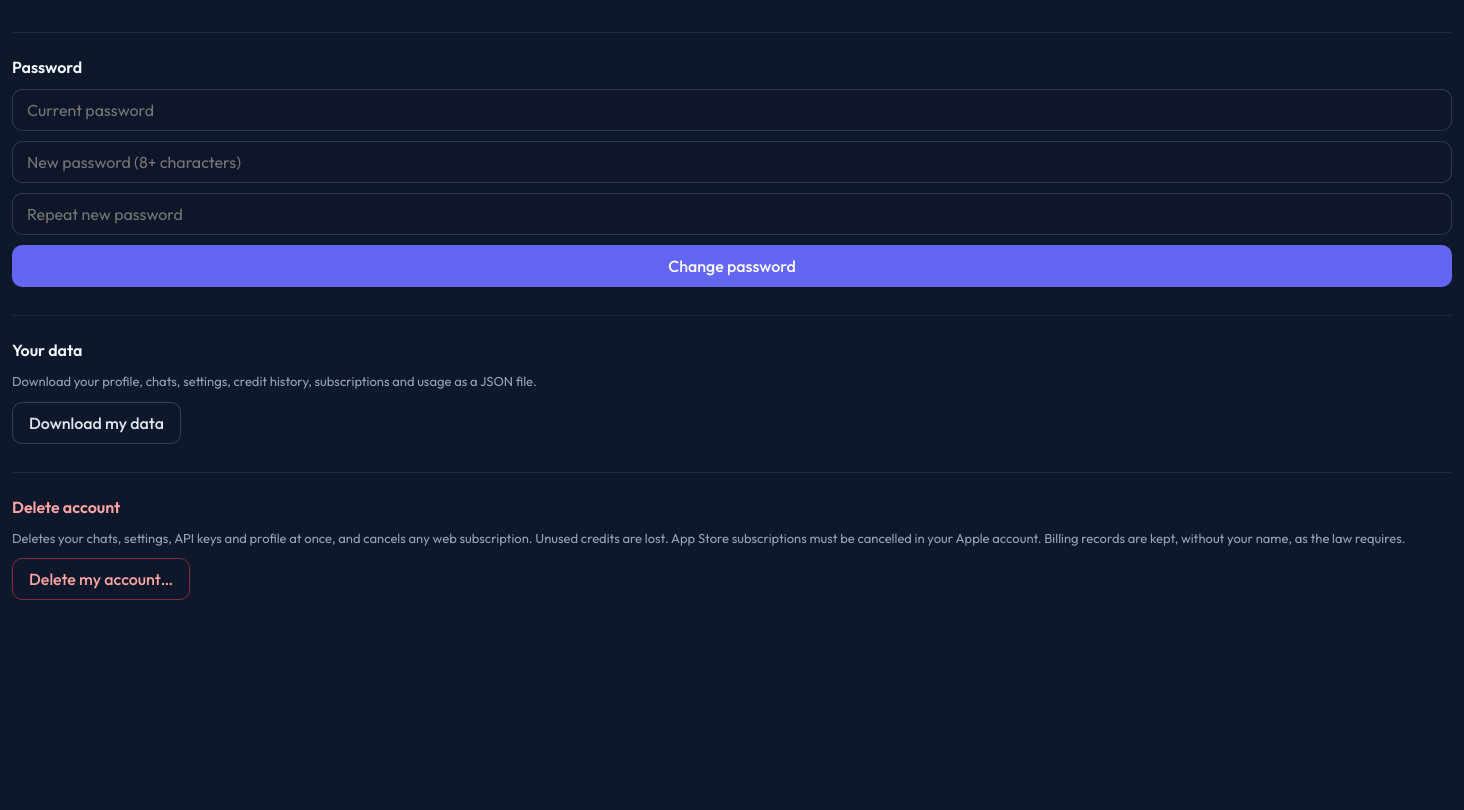
Scenario: Account controls › keeps the user on the page when the confirmation is wrong
This screenshot has width=1464, height=810.
Click the button "Delete my account…" at (101, 579), box x1=12 y1=558 x2=190 y2=600
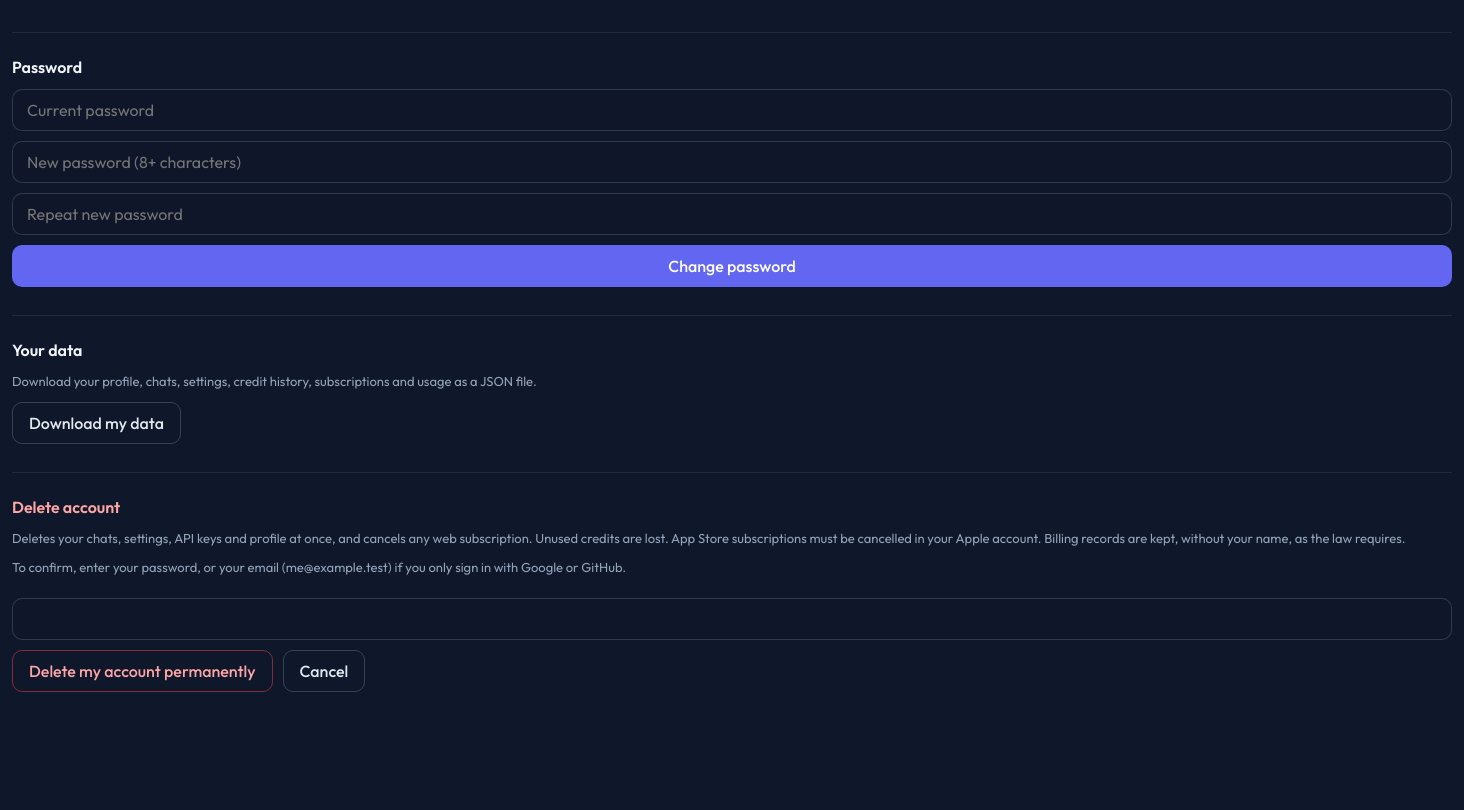
Type "nope" into the password field with id "confirm-delete" at (732, 618), box x1=12 y1=598 x2=1452 y2=640
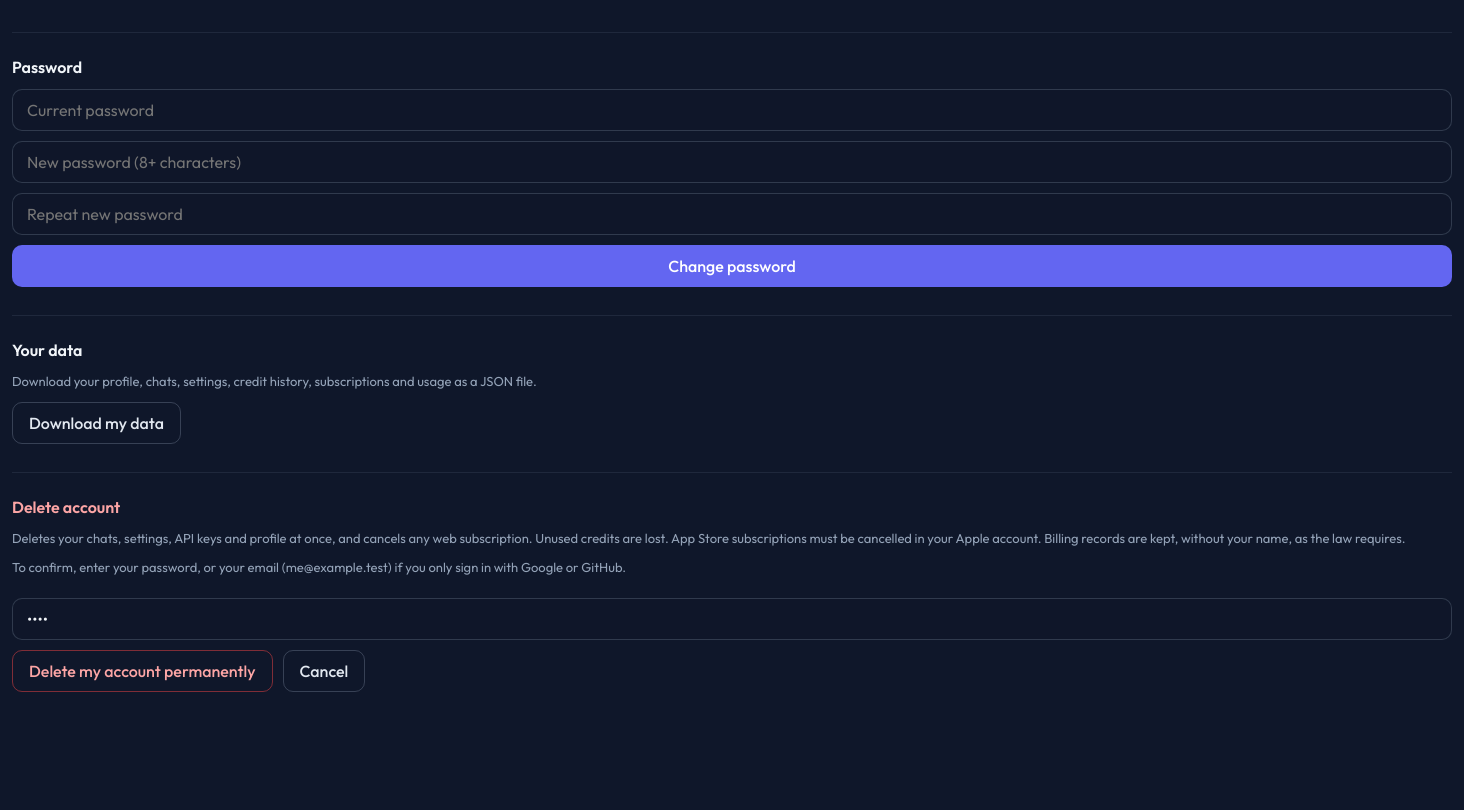
Submit the 2nd form, box x1=12 y1=558 x2=1452 y2=692
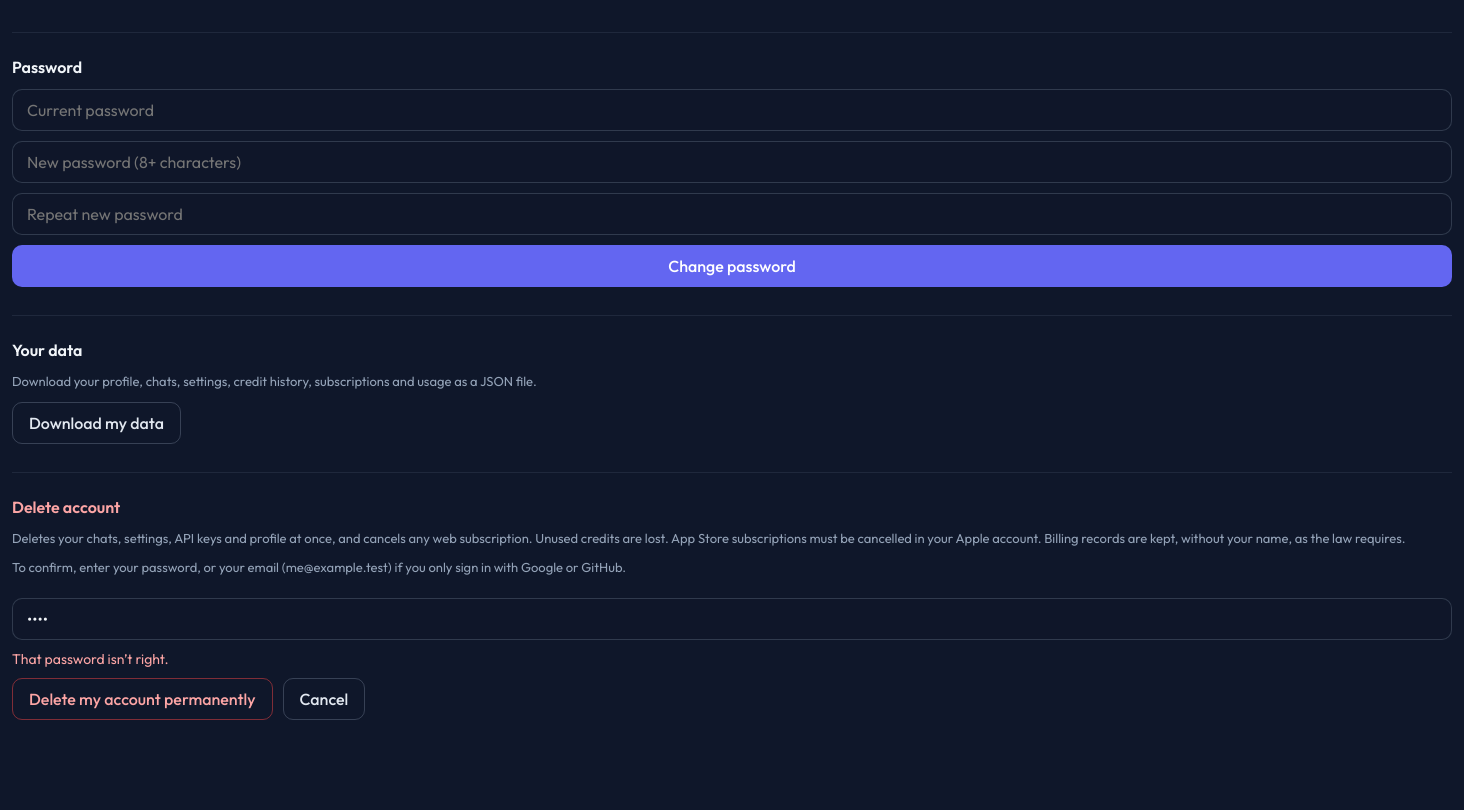
Expected: the text "That password isn’t right." is shown, x1=12 y1=650 x2=169 y2=668
